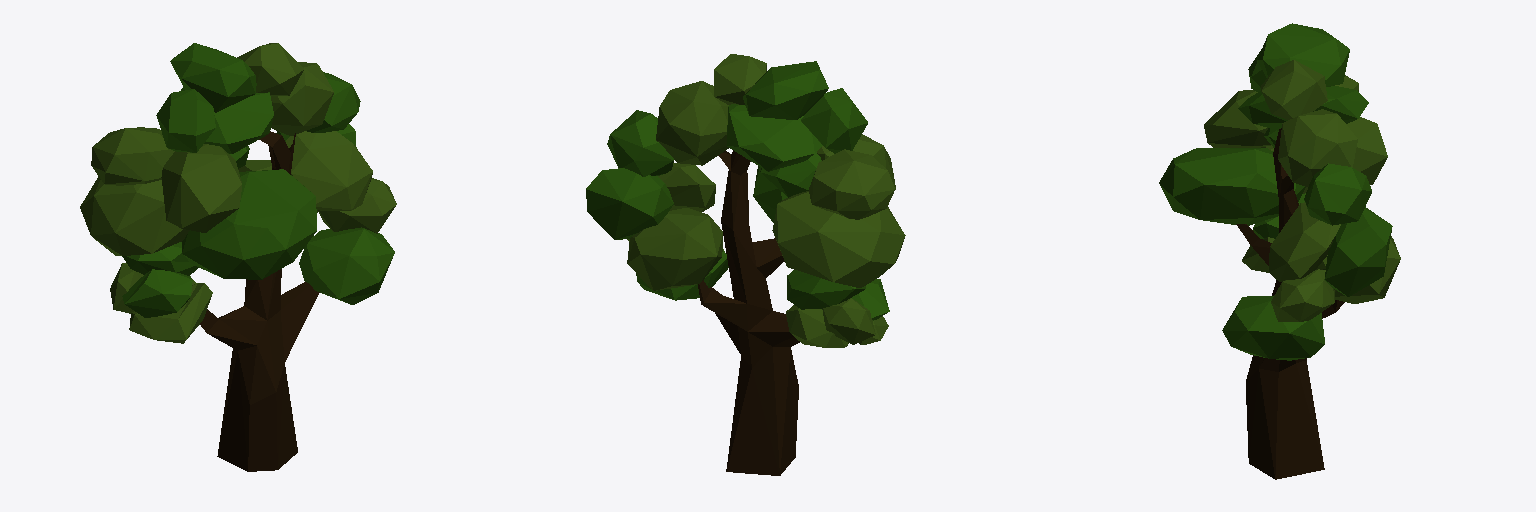
File: LowPolyOak.obj
3 renders of one model, left to right at view 1: azimuth 30°, elevation 25°; view 2: azimuth 150°, elevation 25°; view 3: azimuth 270°, elevation 25°, orthographic.
Visible parts, largest first — view 1: Oak_Cylinder.004; view 2: Oak_Cylinder.004; view 3: Oak_Cylinder.004.
Part boxes in pixels (x1,y1,x2,y2): Oak_Cylinder.004: (80, 43, 396, 471); Oak_Cylinder.004: (586, 54, 905, 475); Oak_Cylinder.004: (1159, 23, 1400, 479).
Size of the model in its own units: 3.95 by 5.29 by 2.84.